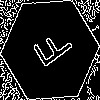F: (25, 25, 75, 75)
